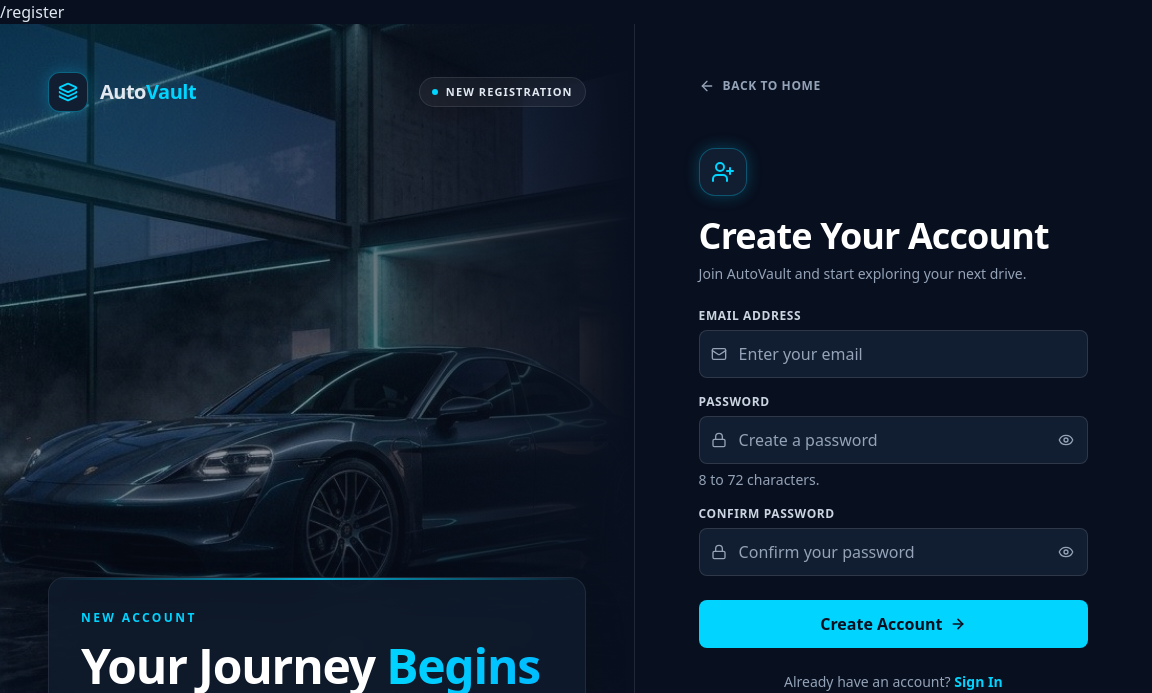
it: RegisterPage › creates the account, signs in, and opens the dashboard
Type "jane@example.com" into the field labelled "Email address" at point(893, 354), box [699, 330, 1088, 378]
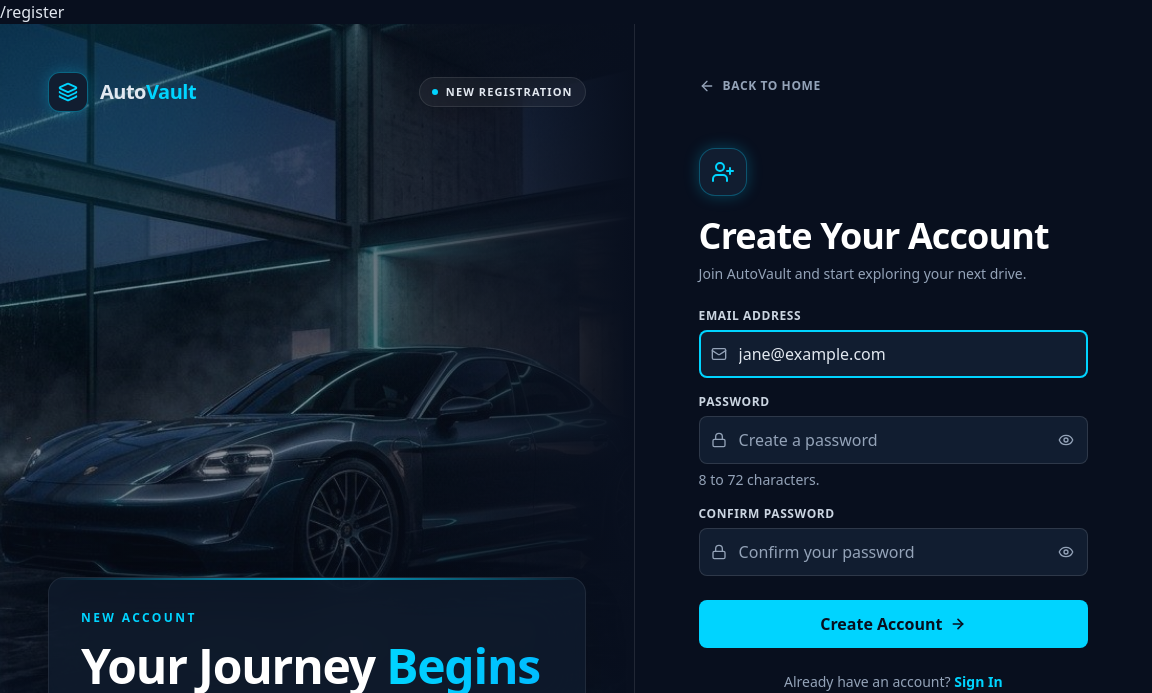
Type "Sup3rSecret!" into the password field labelled "Password" at point(893, 440), box [699, 416, 1088, 464]
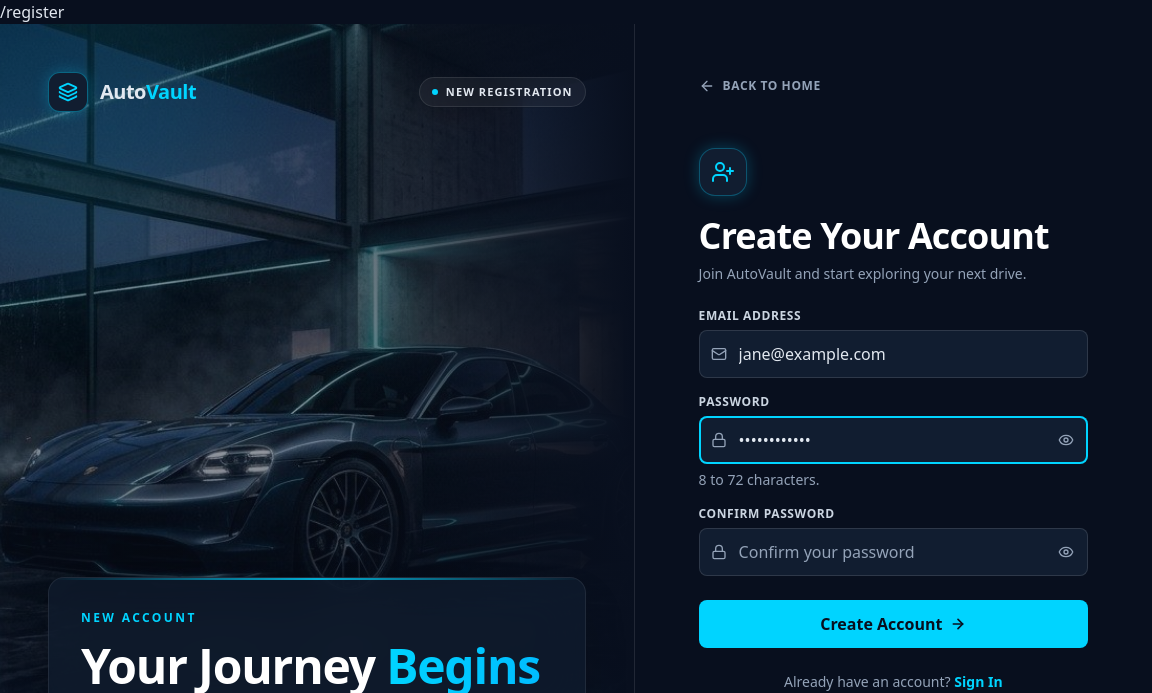
Type "Sup3rSecret!" into the password field labelled "Confirm password" at point(893, 552), box [699, 528, 1088, 576]
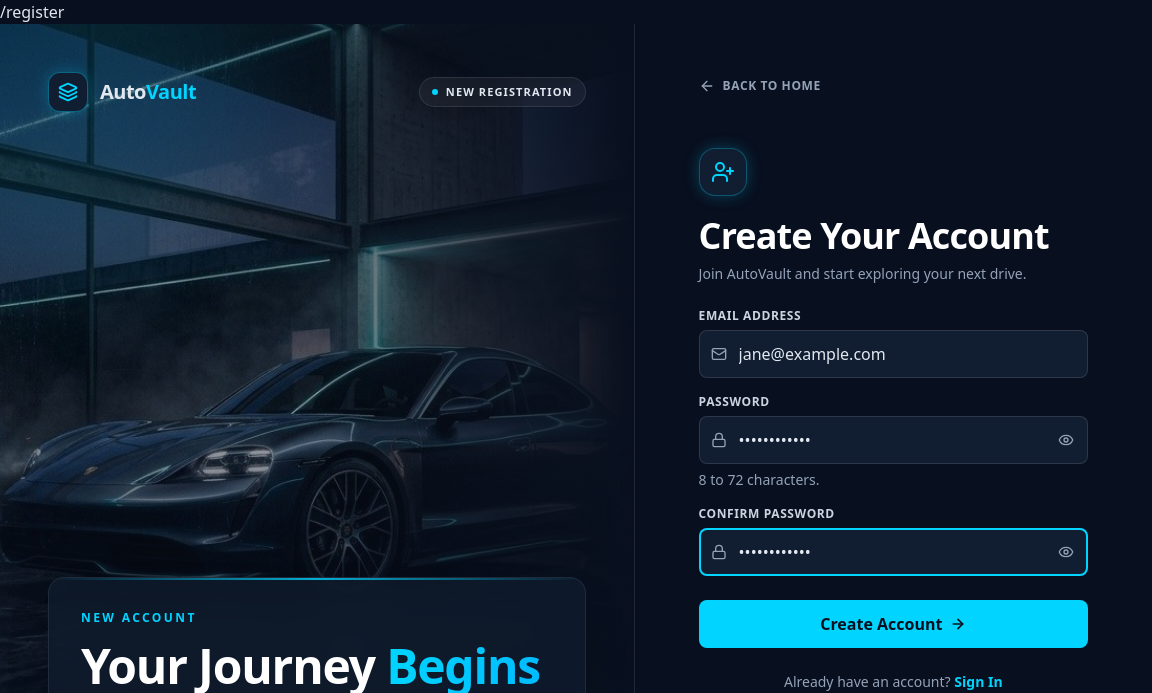
Click the button "Create Account" at point(893, 624), box [699, 600, 1088, 648]
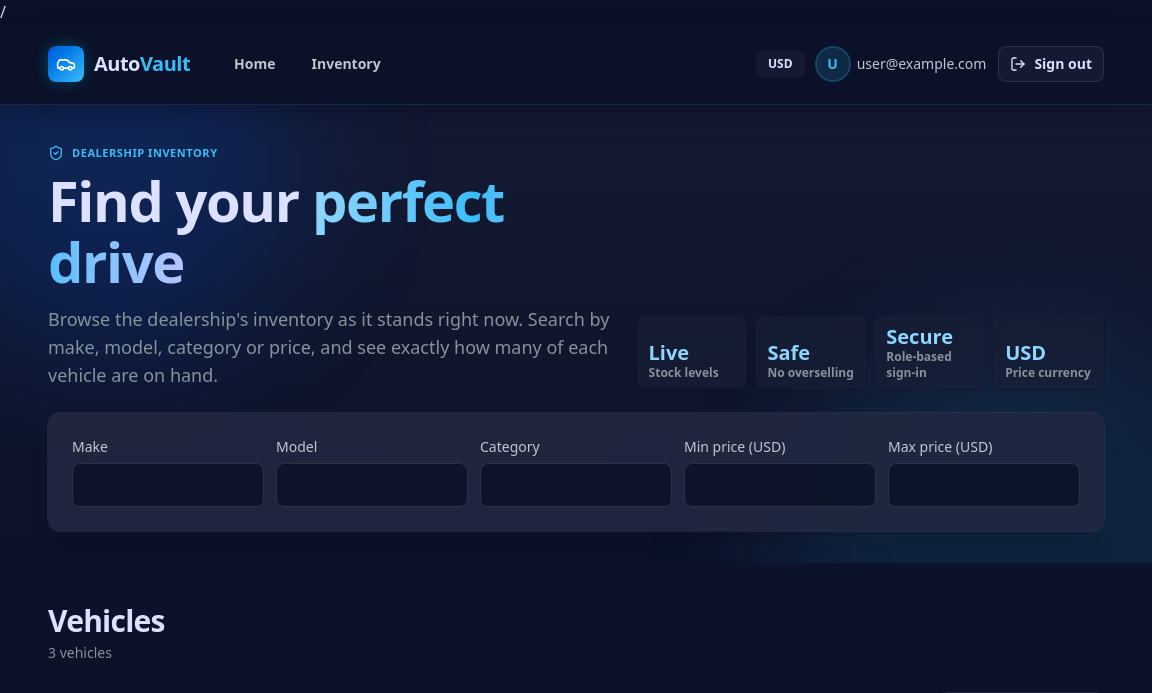
Result: the heading "Vehicles" is shown at [48, 603, 165, 639]
